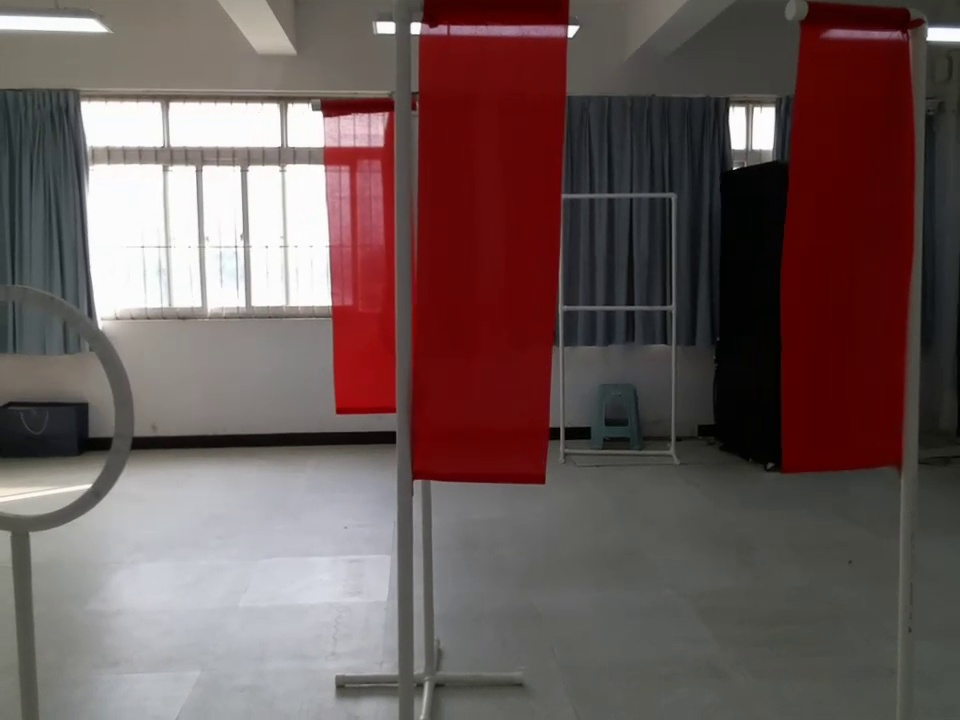qi: (393, 1, 573, 500), (781, 1, 927, 499), (305, 91, 414, 418)
